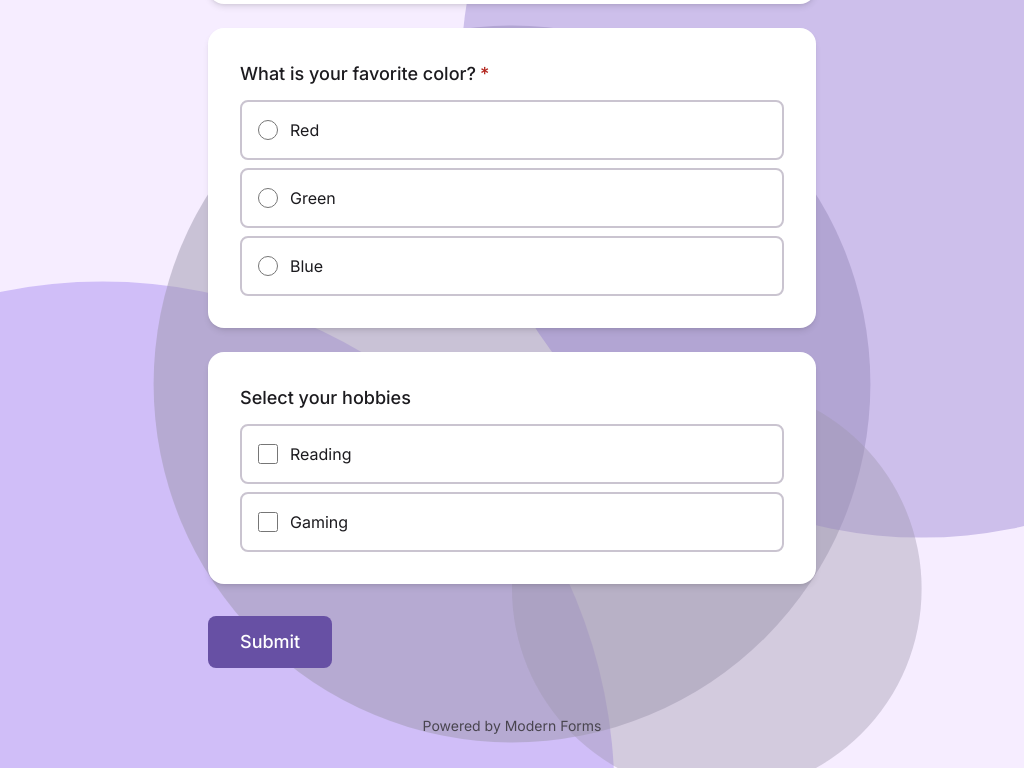
Test: StandardLayout › should show validation errors for required fields on submit
(page scrolled)
Click the button "Submit".
click(270, 642)  # box [208,616,332,668]
(page scrolled)
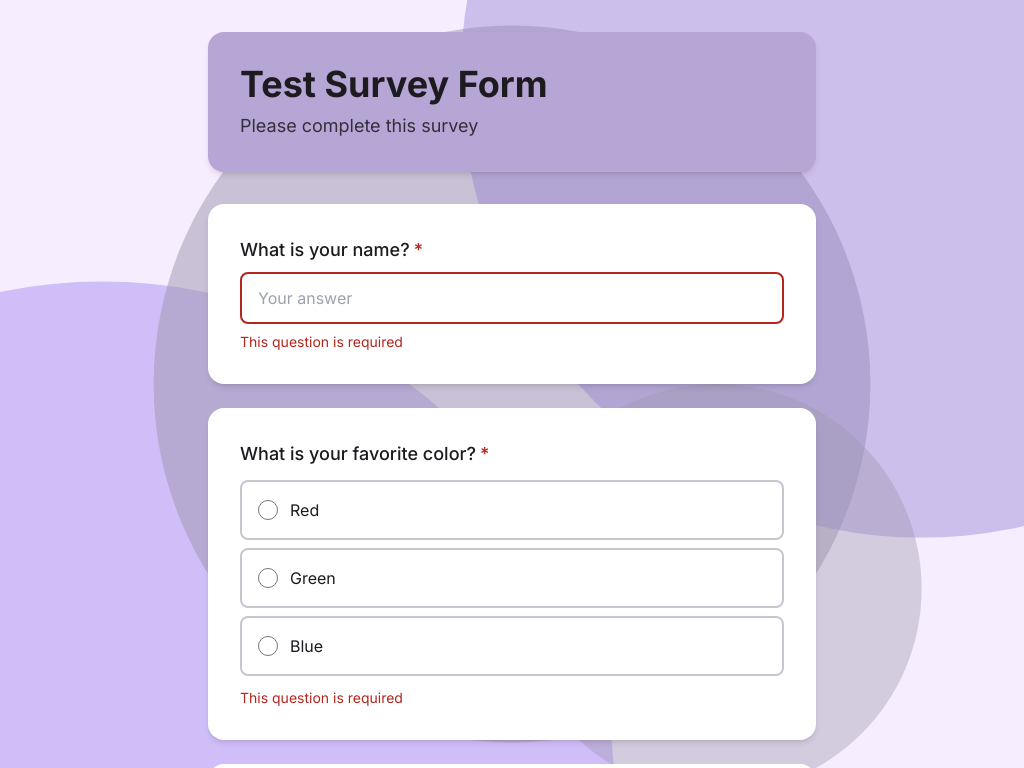
Result: the text "This question is required" below "What is your name?" is shown at [240,333,403,350]
